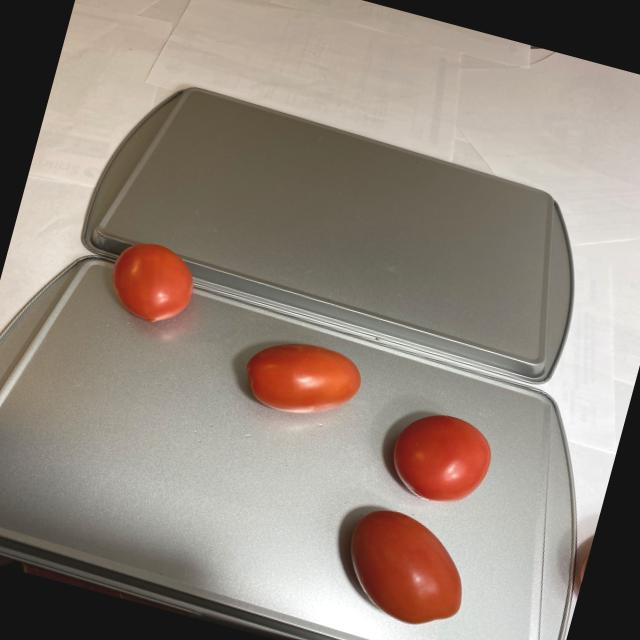tomato: (194, 329, 524, 639), (103, 238, 207, 335)
